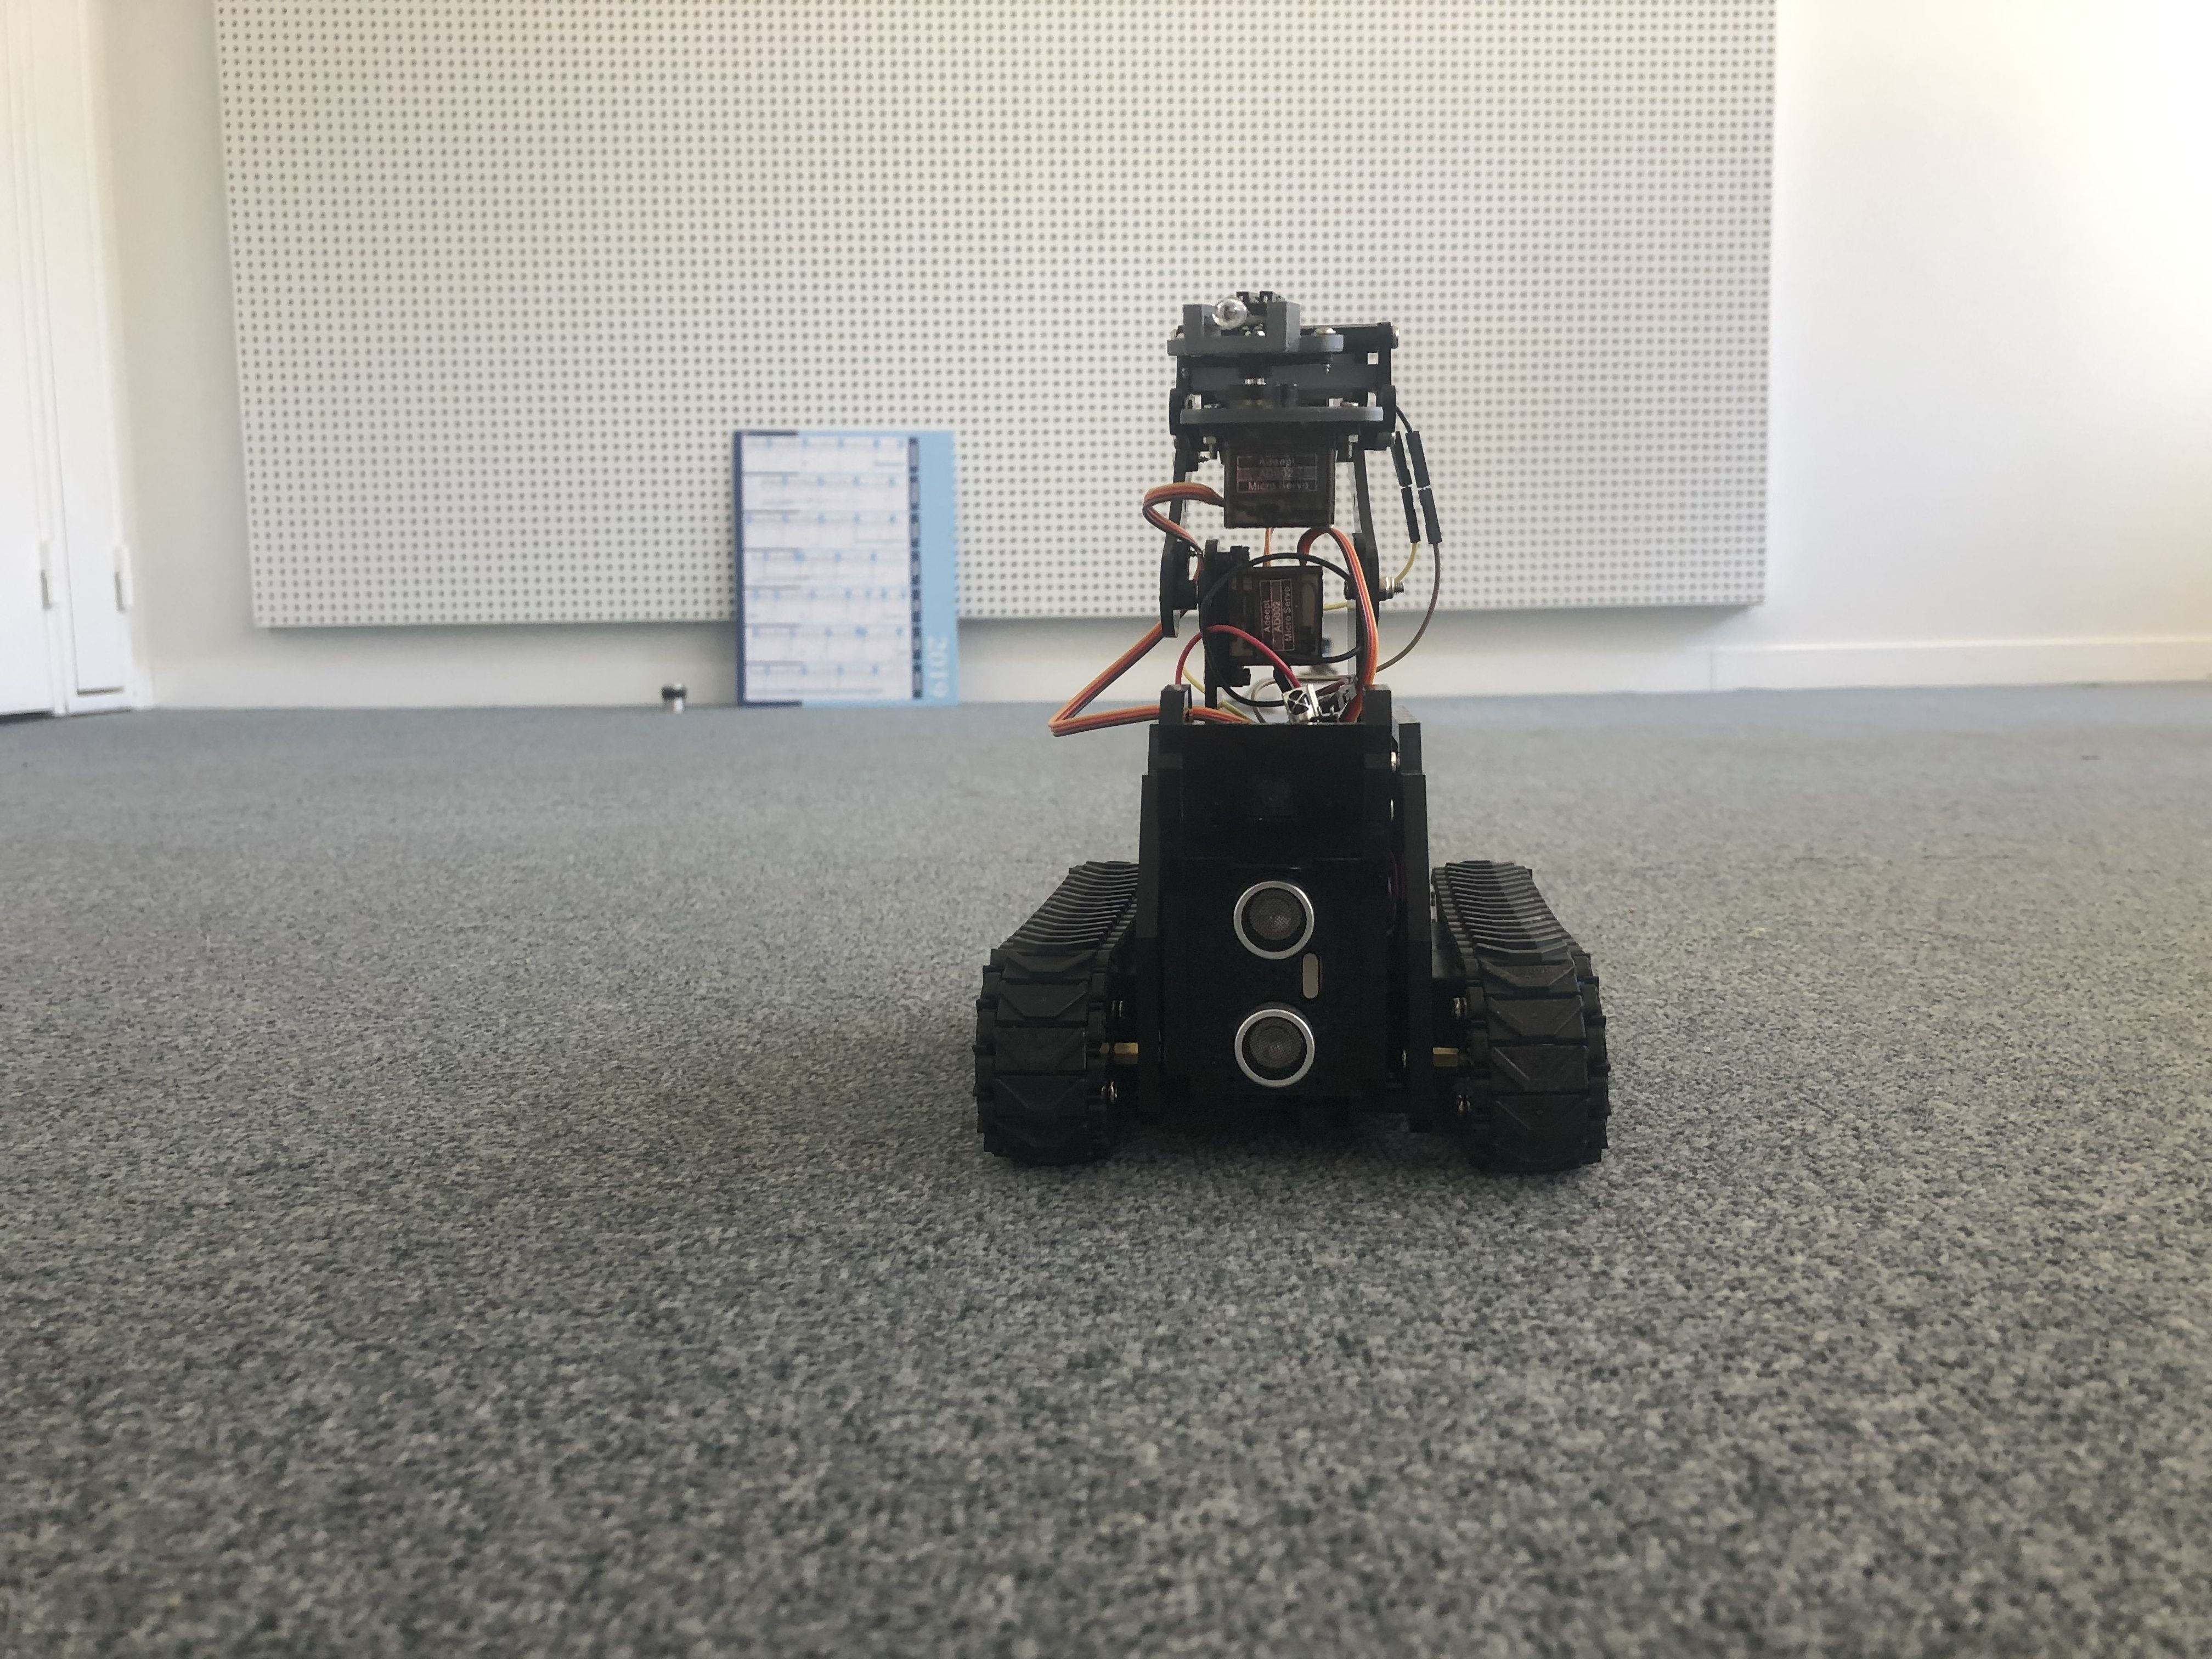rasptank: (960, 261, 1637, 1173)
